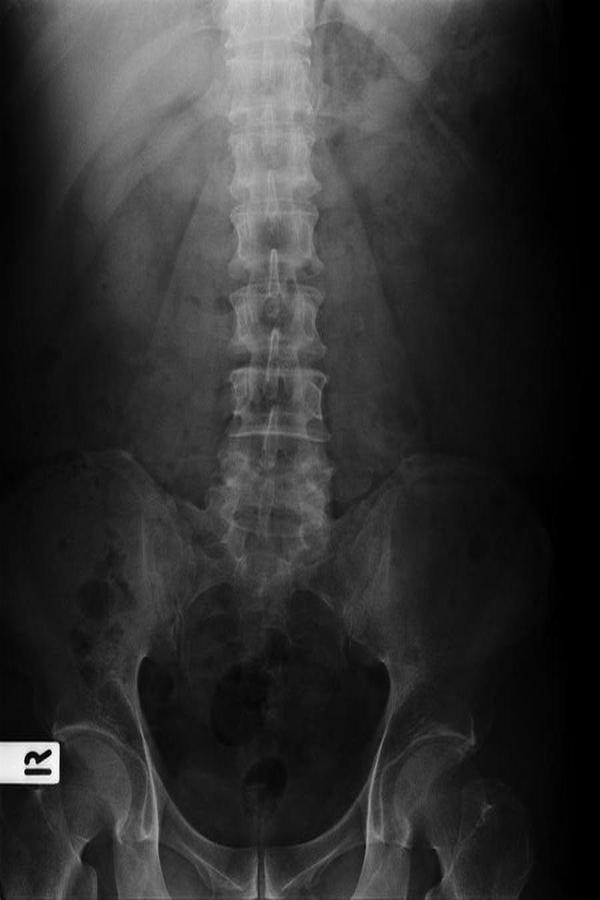lumbar scoliosis: (214, 14, 334, 576)
